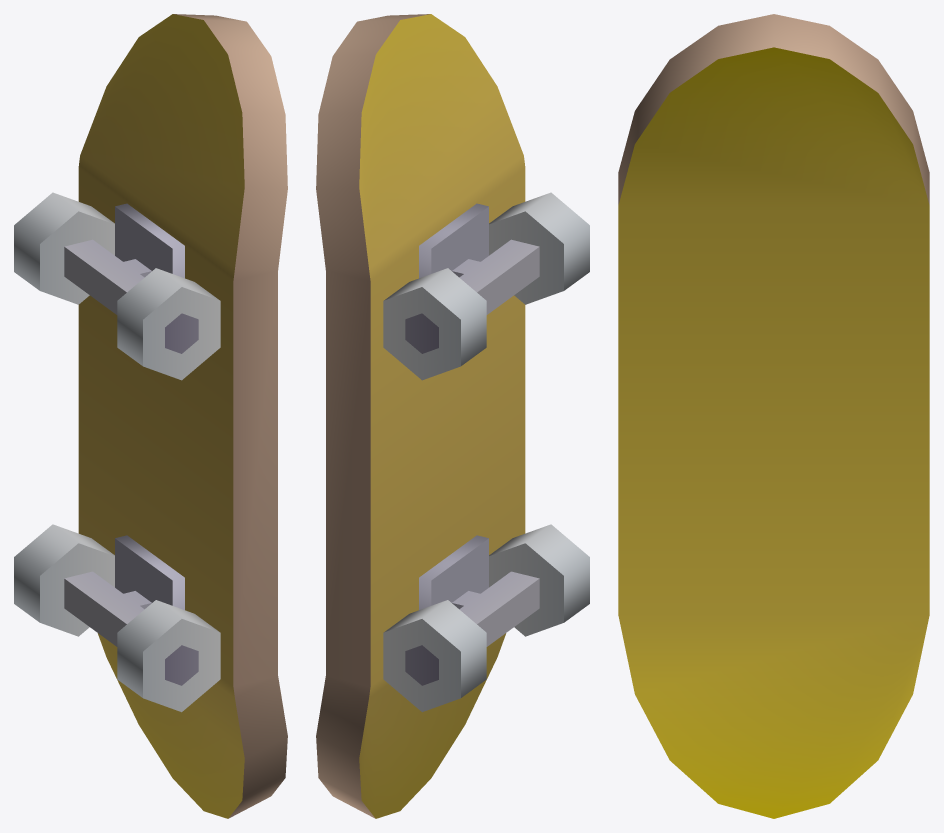
Rendered from toy-skateboard-wall (%wall).glb.
The picture shows the model from 3 angles, left to right: view 1: azimuth 30°, elevation 25°; view 2: azimuth 150°, elevation 25°; view 3: azimuth 270°, elevation 25°; orthographic projection.
Visible parts, largest first — view 1: toy-skateboard-wall (%wall); view 2: toy-skateboard-wall (%wall); view 3: toy-skateboard-wall (%wall).
Boxes of the visible parts, left/top/right/bottom form: toy-skateboard-wall (%wall): left=14, top=14, right=287, bottom=818; toy-skateboard-wall (%wall): left=316, top=14, right=589, bottom=818; toy-skateboard-wall (%wall): left=618, top=14, right=929, bottom=818.
Size of the model in its own units: 0.1413 by 0.6342 by 0.225.
